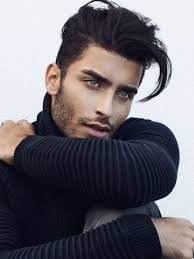middle_eastern_male: (64, 28, 142, 140)
